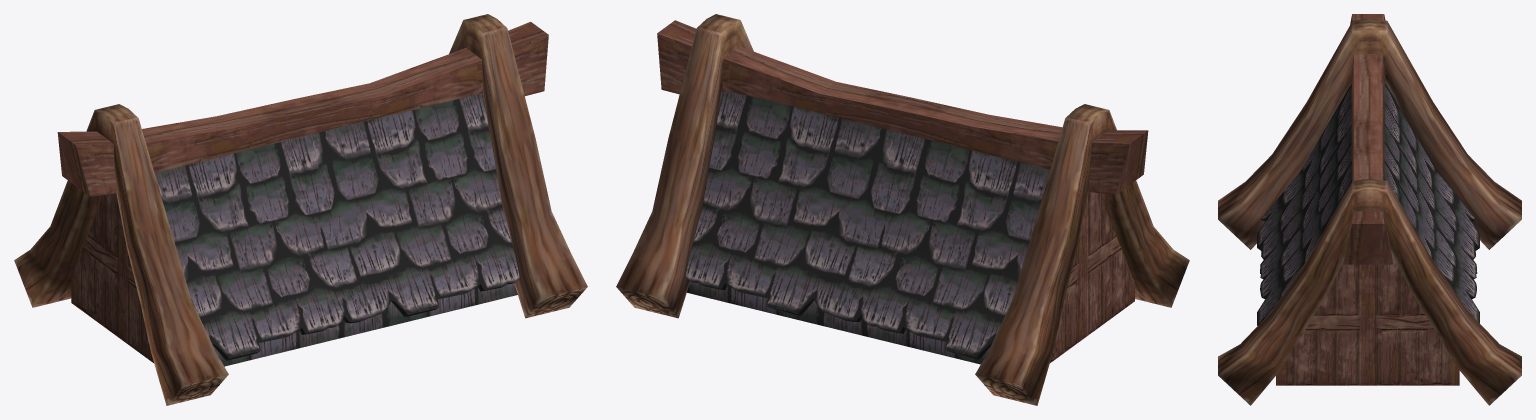
The model's file is roof1x2.fbx.
The picture shows the model from 3 angles, left to right: view 1: azimuth 30°, elevation 25°; view 2: azimuth 150°, elevation 25°; view 3: azimuth 270°, elevation 25°; orthographic projection. The views are drawn at different scales.
Visible parts, largest first — view 1: Roof2x1; view 2: Roof2x1; view 3: Roof2x1.
Boxes of the visible parts, x1=… form: Roof2x1: x1=14, y1=14, x2=587, y2=405; Roof2x1: x1=616, y1=14, x2=1189, y2=405; Roof2x1: x1=1218, y1=14, x2=1521, y2=405.
Size of the model in its own units: 397 by 193 by 248.
